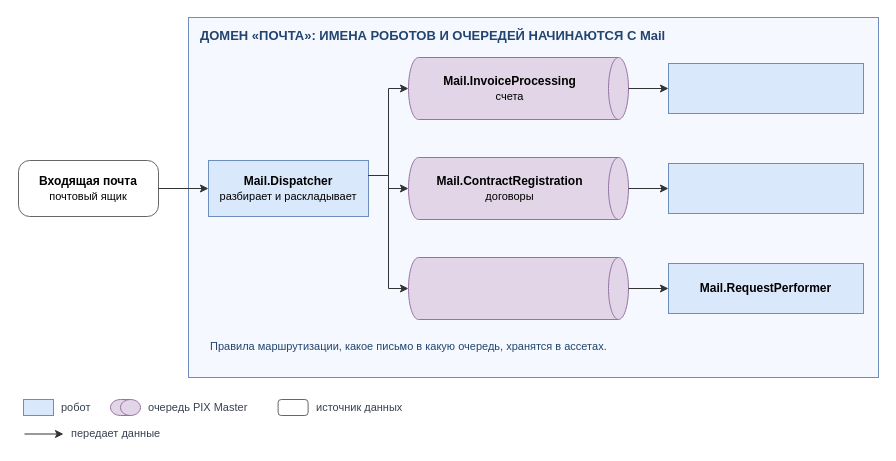
Image size: 896x461. Some labels were removed from this diagram. Here are the shapes that lost their labels. From the top down, the centre of each, then its label:
the point at 766,88: Mail.InvoicePerformer
the point at 766,188: Mail.ContractPerformer
the point at 518,288: Mail.RequestRouting заявки
